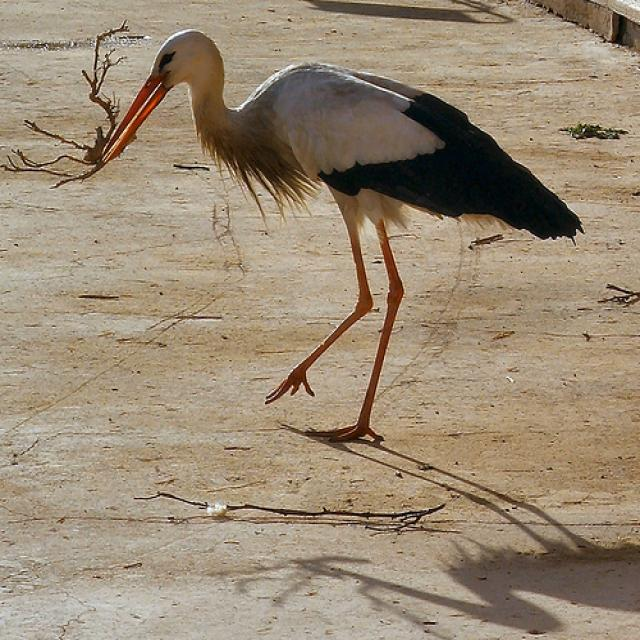bird: (101, 26, 585, 442)
